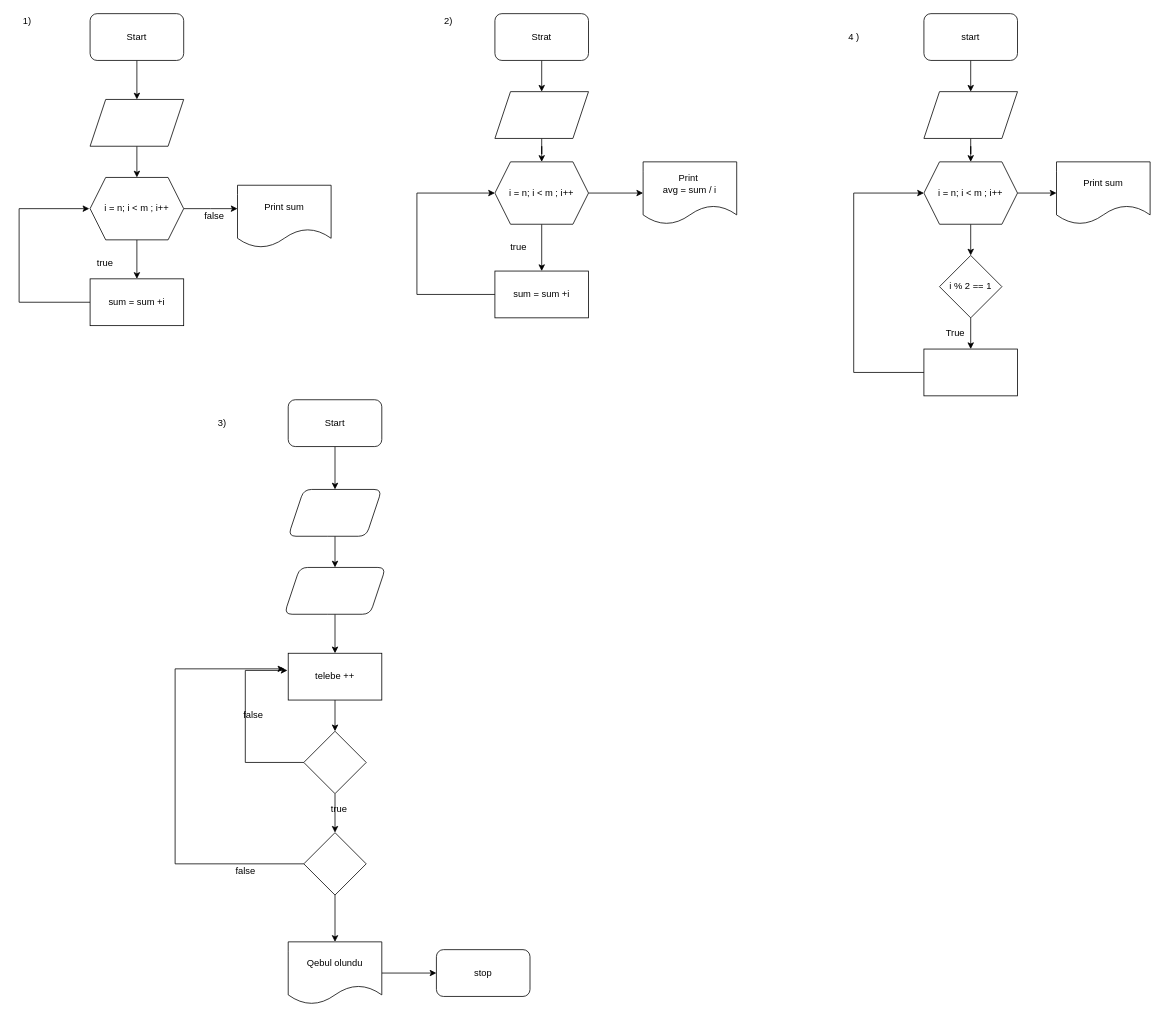
This 1164x1018 diagram has some shape labels left out. Each missing label, with the centre of its shape:
"age < 18" goes at (334,762).
"int n=20, m=50 sum = 0" goes at (136,122).
"n = 1; m = 20 sum = 0" goes at (970,114).
"n=1; m=100 sum = 0 avg= 0" goes at (541,114).
"point < 50" goes at (334,863).
"sum += i" goes at (970,372).
"telebe" goes at (334,512).
"yash, imtahan bali" goes at (335,590).
